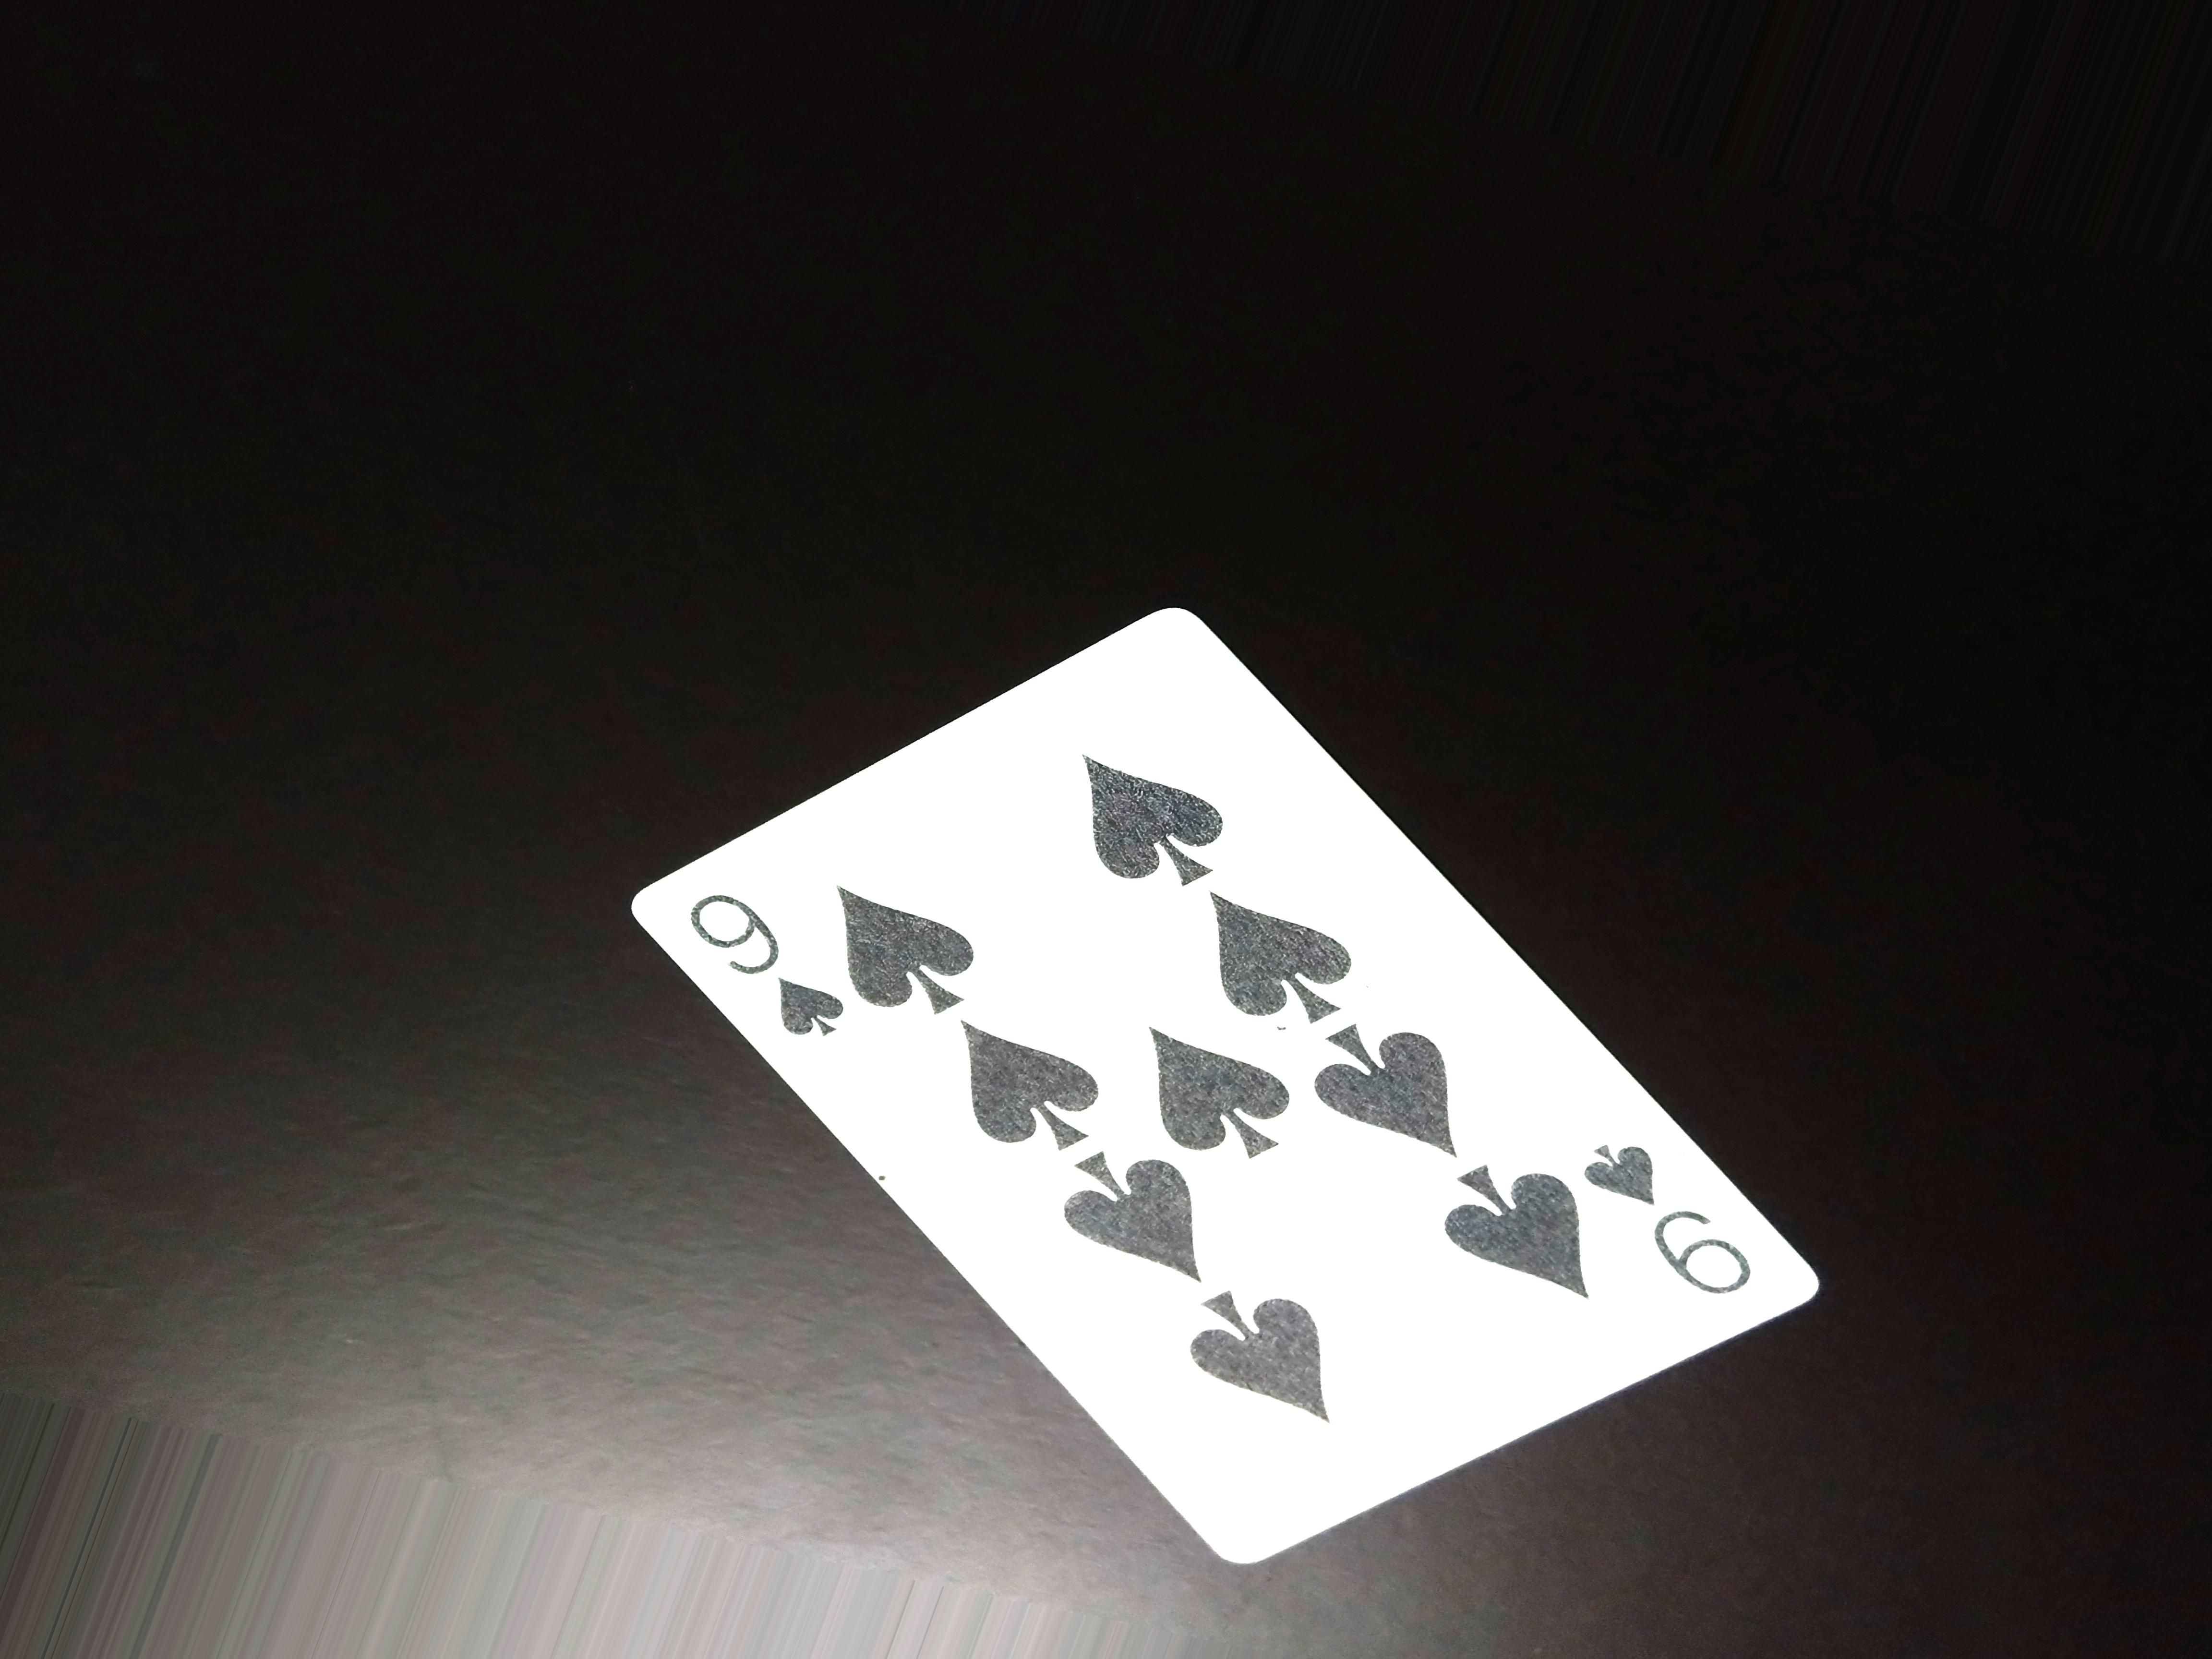9S: (1588, 1129, 1777, 1314)
